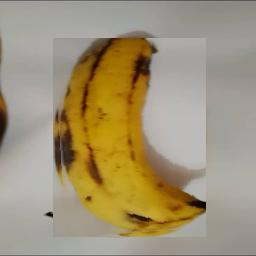Banana Semifresh: (53, 38, 206, 237)
